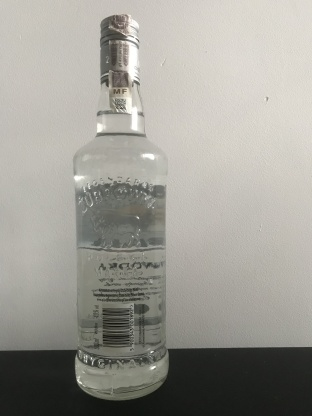nakretka: (98, 12, 142, 86)
